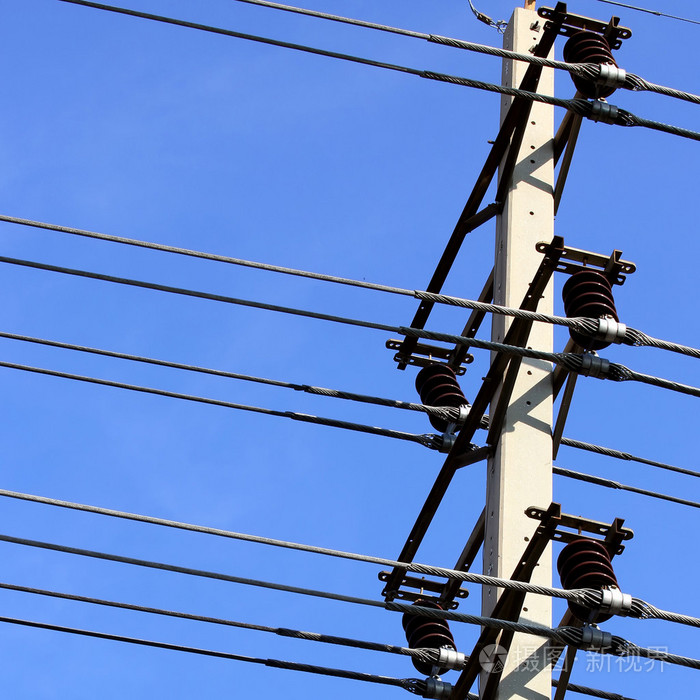insulator: (553, 538, 615, 623), (398, 599, 456, 676), (562, 271, 619, 345), (414, 362, 465, 430), (562, 30, 622, 83)
